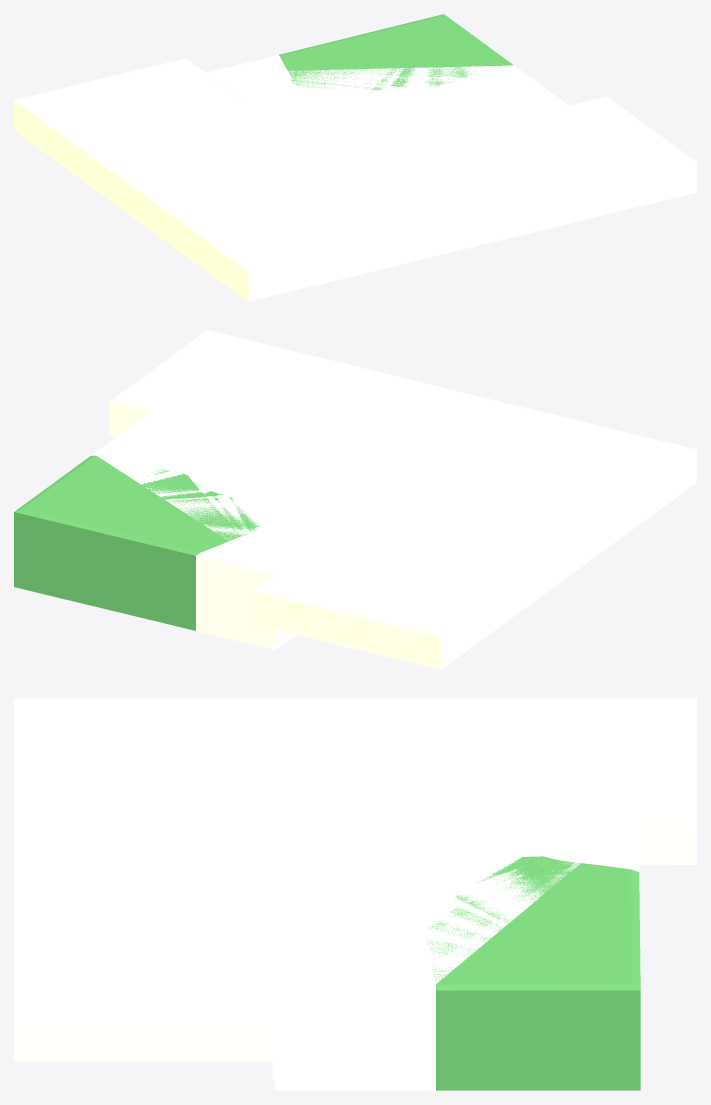
File: Ground_Extended.fbx
3 views of the same model, one above another, from view 1: azimuth 30°, elevation 25°; view 2: azimuth 150°, elevation 25°; view 3: azimuth 270°, elevation 25° (orthographic). The views are drawn at different scales.
Visible parts, largest first — view 1: Ocean_Barrier, Ground_Extended; view 2: Ocean_Barrier, Ground_Extended; view 3: Ocean_Barrier, Ground_Extended.
Boxes of the visible parts, left/top/right/bottom form: Ocean_Barrier: left=14, top=58, right=696, bottom=301; Ground_Extended: left=206, top=14, right=568, bottom=134; Ocean_Barrier: left=109, top=330, right=696, bottom=669; Ground_Extended: left=14, top=412, right=363, bottom=649; Ocean_Barrier: left=14, top=698, right=696, bottom=1061; Ground_Extended: left=272, top=813, right=640, bottom=1090.
Size of the model in its own units: 110 by 16.39 by 99.45.
